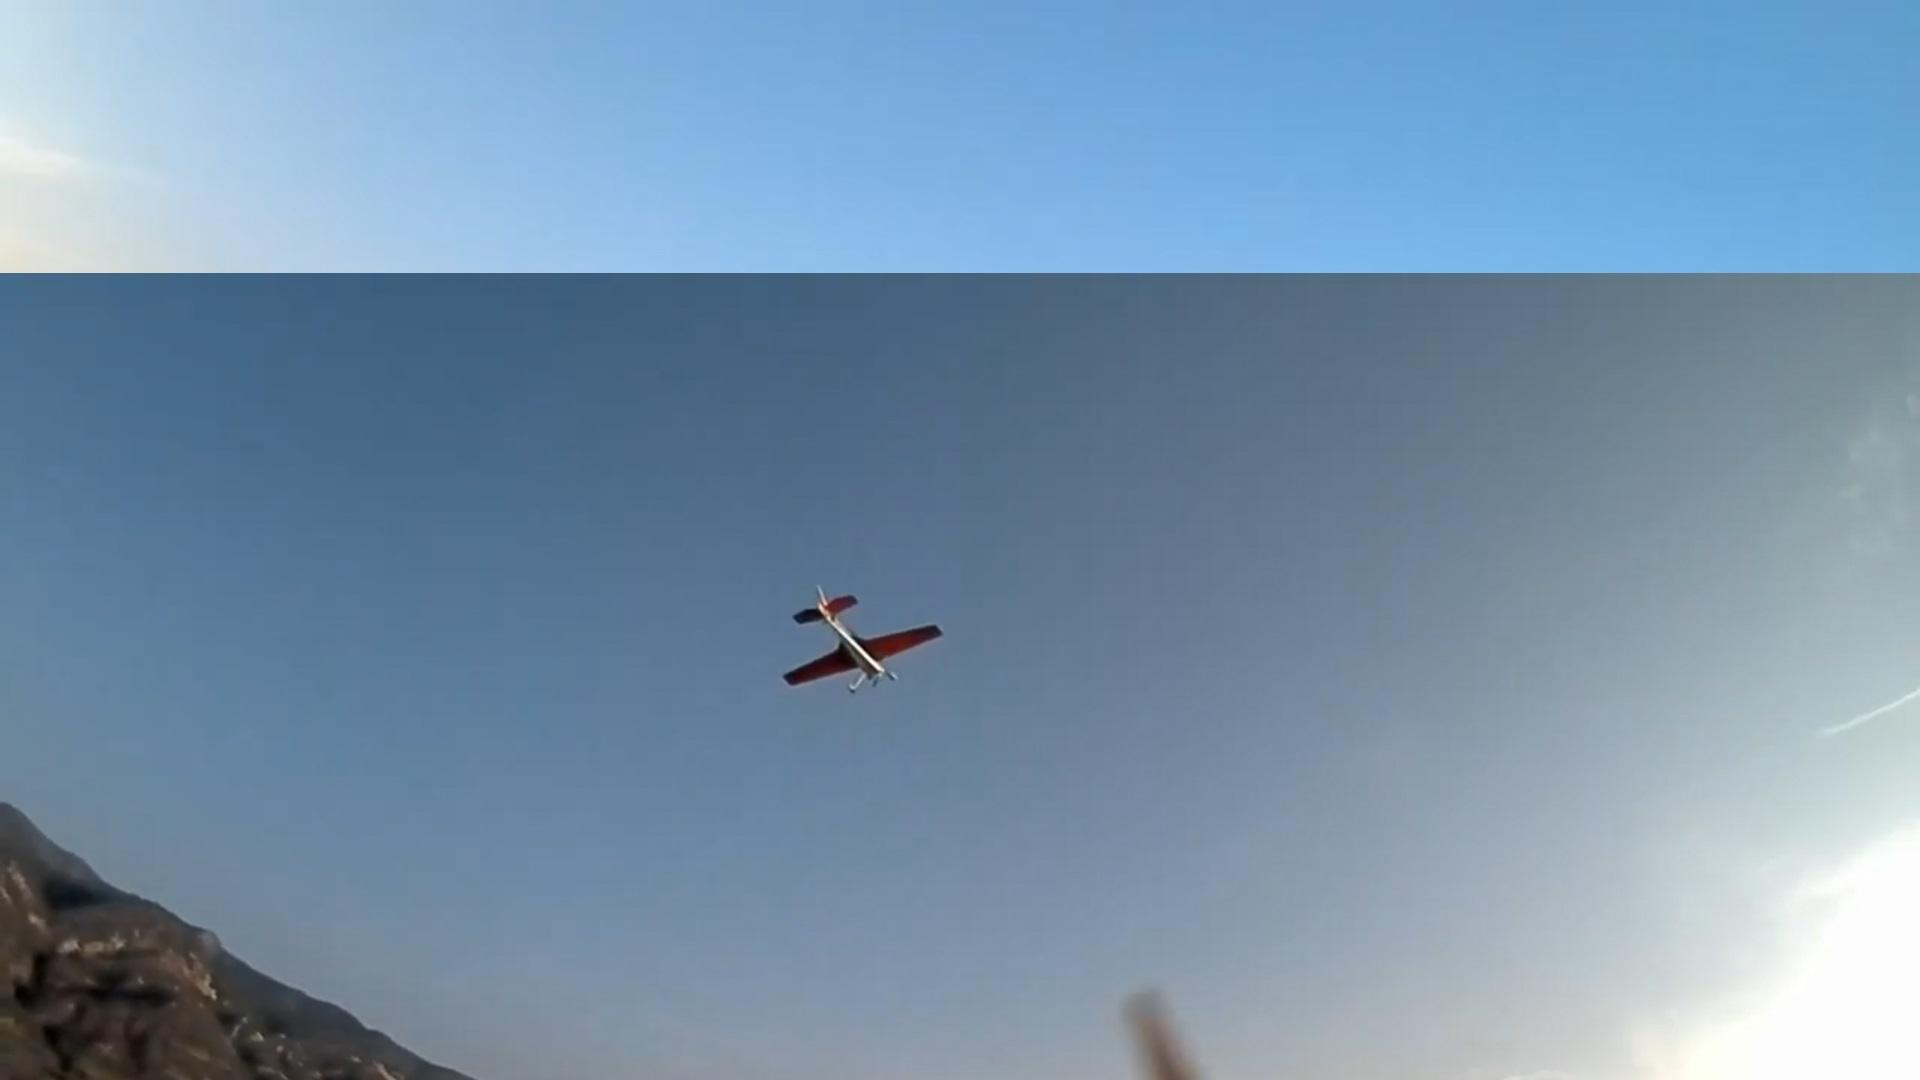Airplane: (773, 578, 949, 707)
